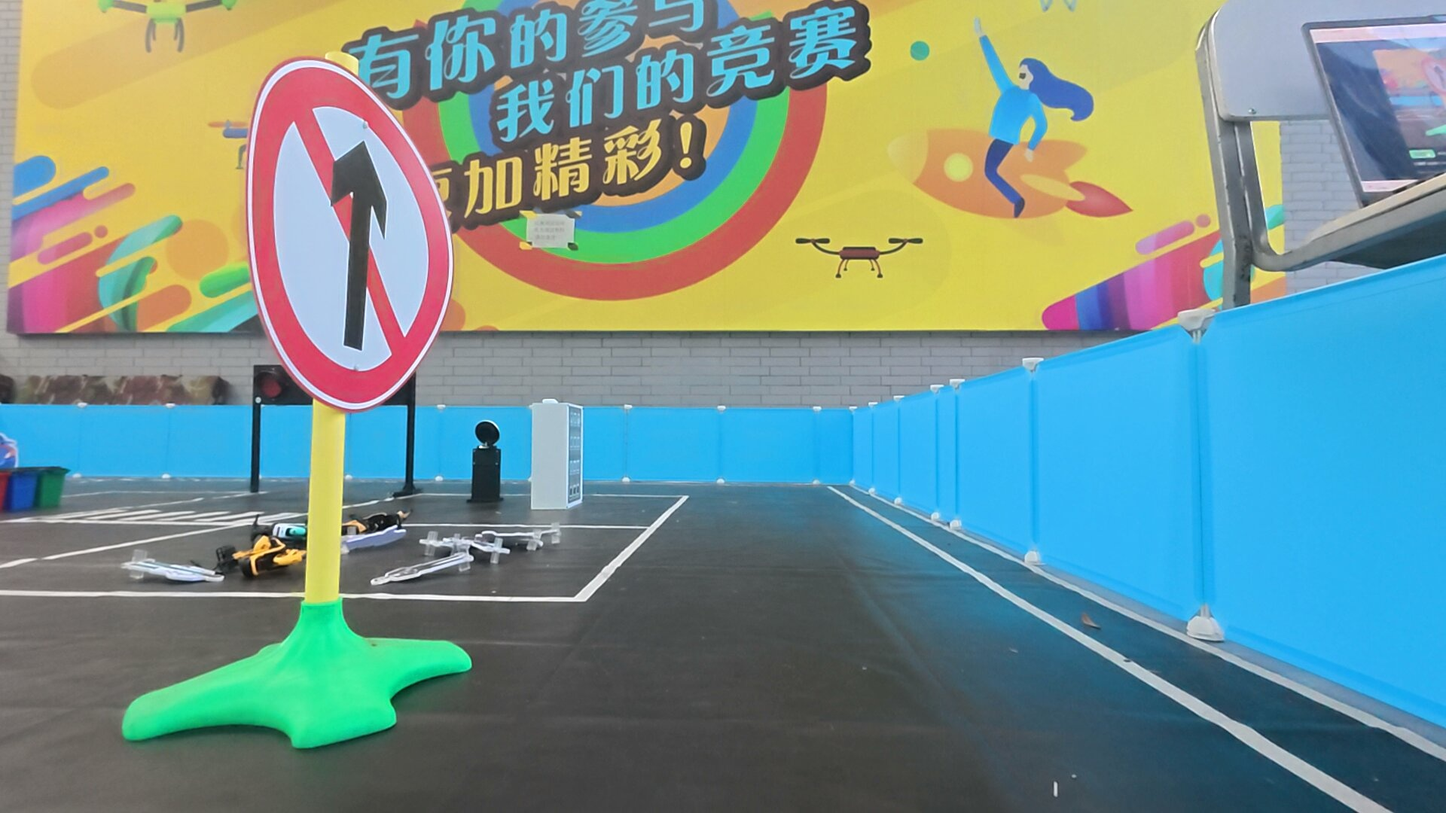obstacle: (234, 53, 457, 425)
